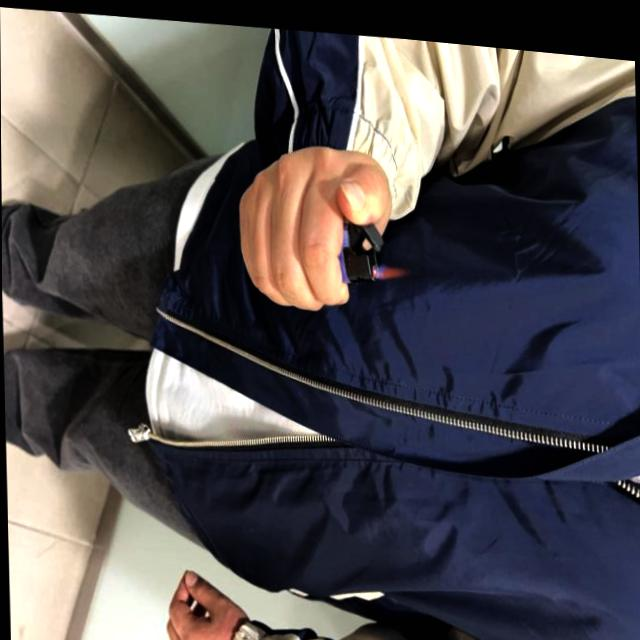helmet: (374, 257, 408, 274)
